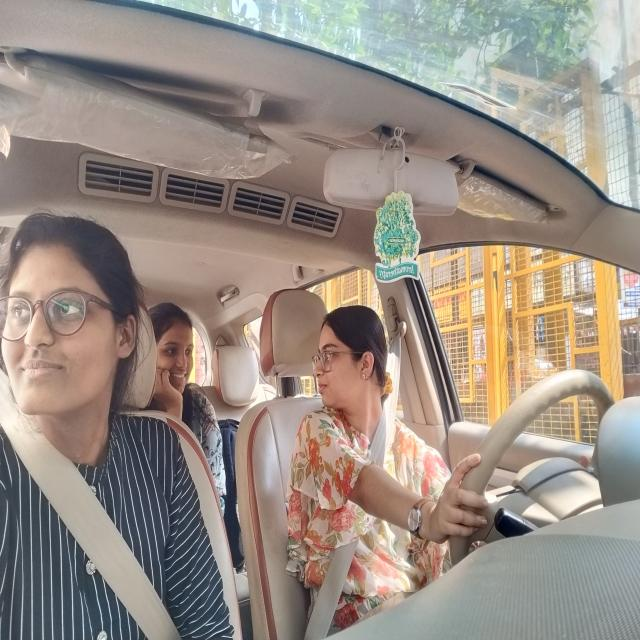LeftRight: (306, 314, 397, 411)
person: (6, 224, 142, 417), (150, 305, 209, 402)
